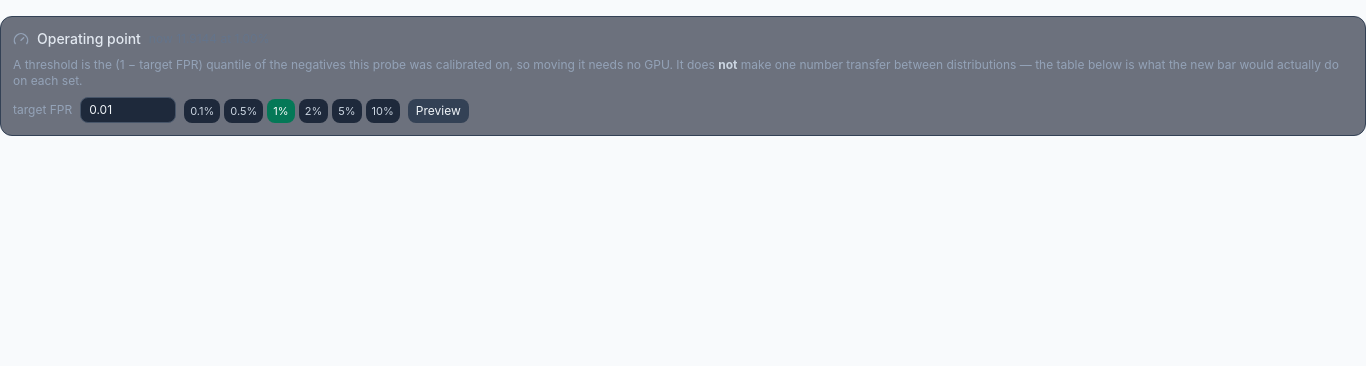
Test case: ThresholdDial › surfaces the server's caution rather than composing one
The image size is (1366, 366).
Click the button "Preview" at (438, 111), box [408, 99, 469, 123]
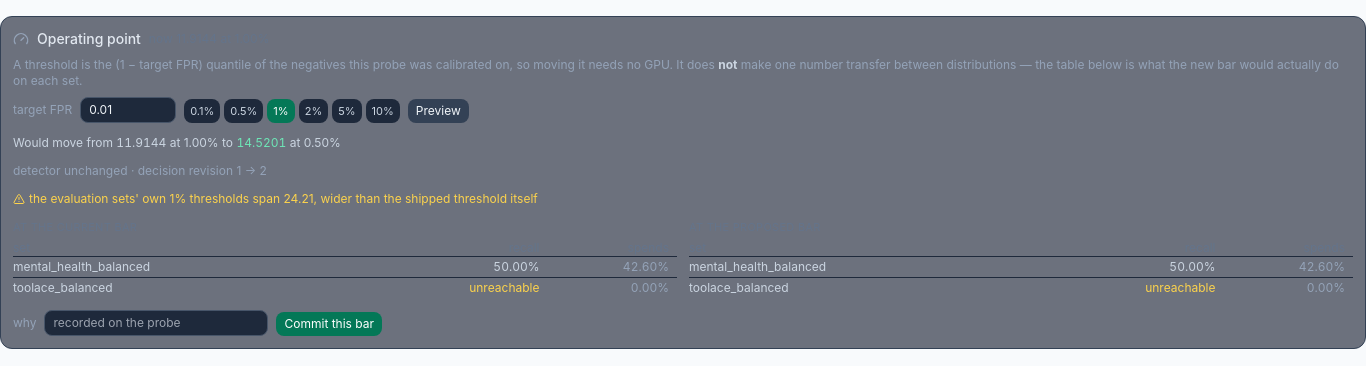
Now the element with test id "transfer-caution" shows "the evaluation sets' own 1% thresholds span 24.21, wider than the shipped threshold itself", box [29, 191, 538, 206]
